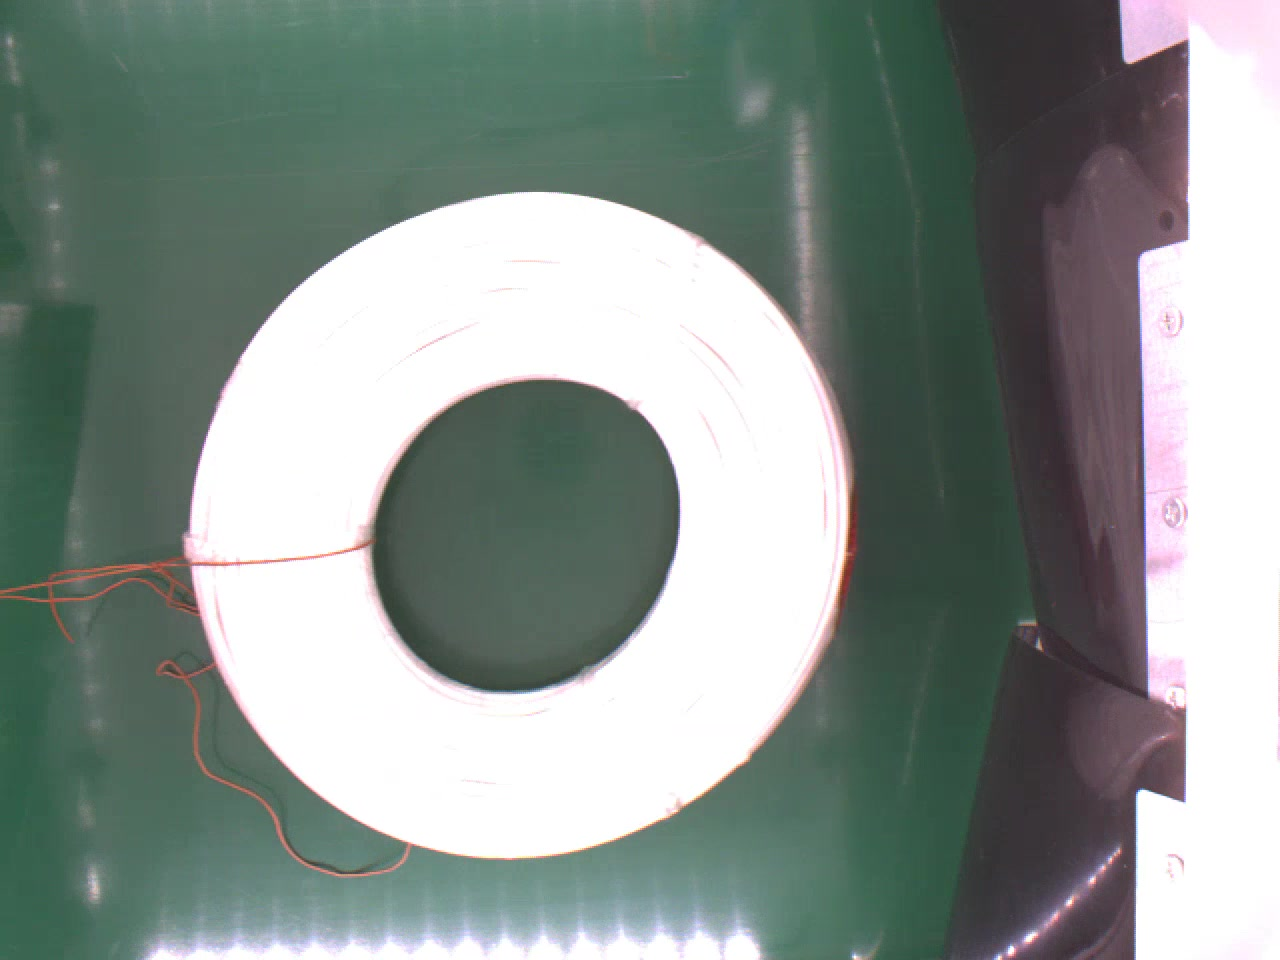white: (183, 187, 851, 868)
